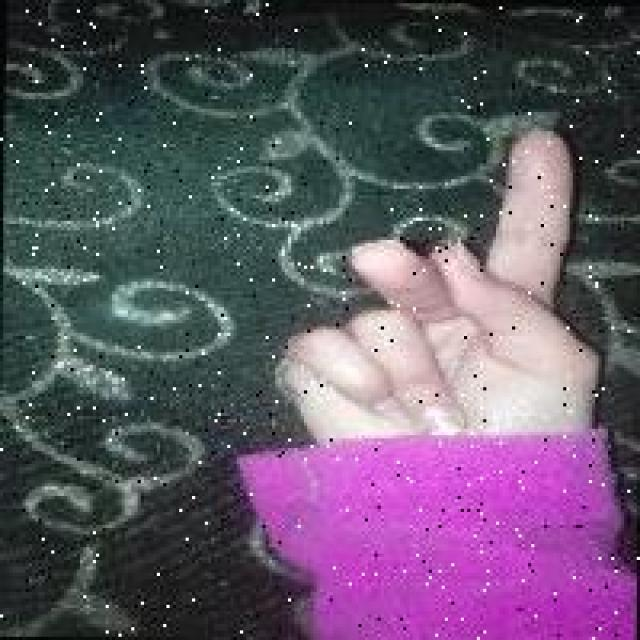K: (243, 112, 614, 435)
